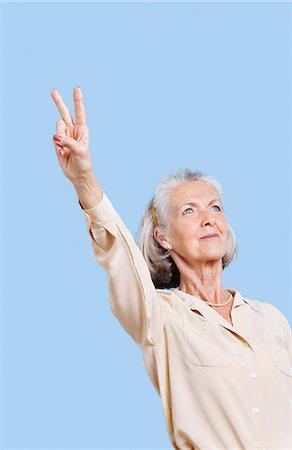peace_sign: (44, 79, 105, 190)
